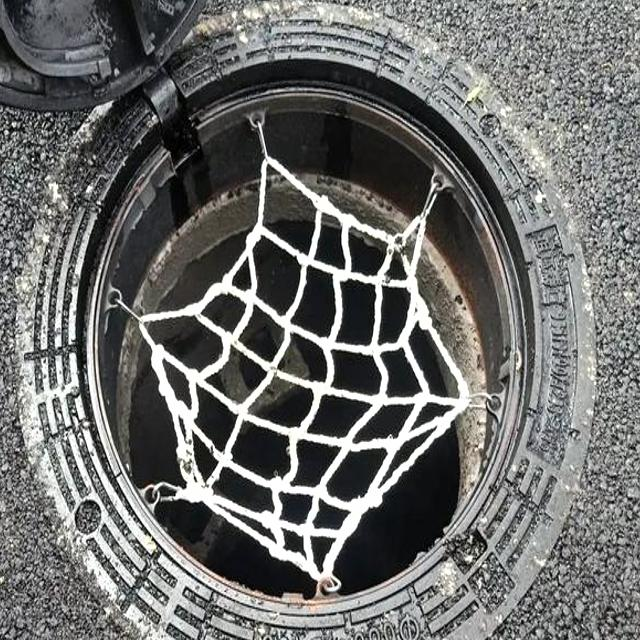lose: (15, 5, 596, 640)
